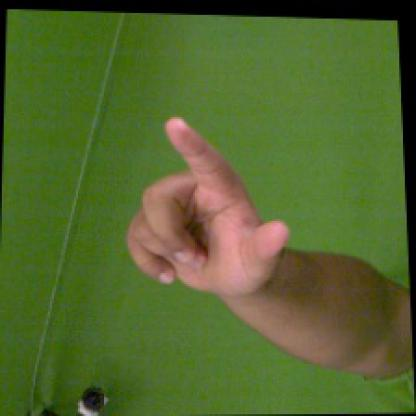Hand: (126, 117, 290, 300)
